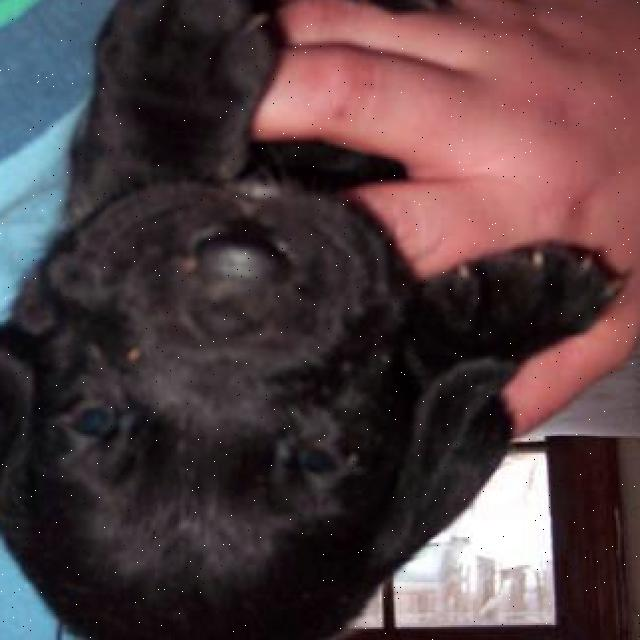Dog: (0, 167, 499, 640)
